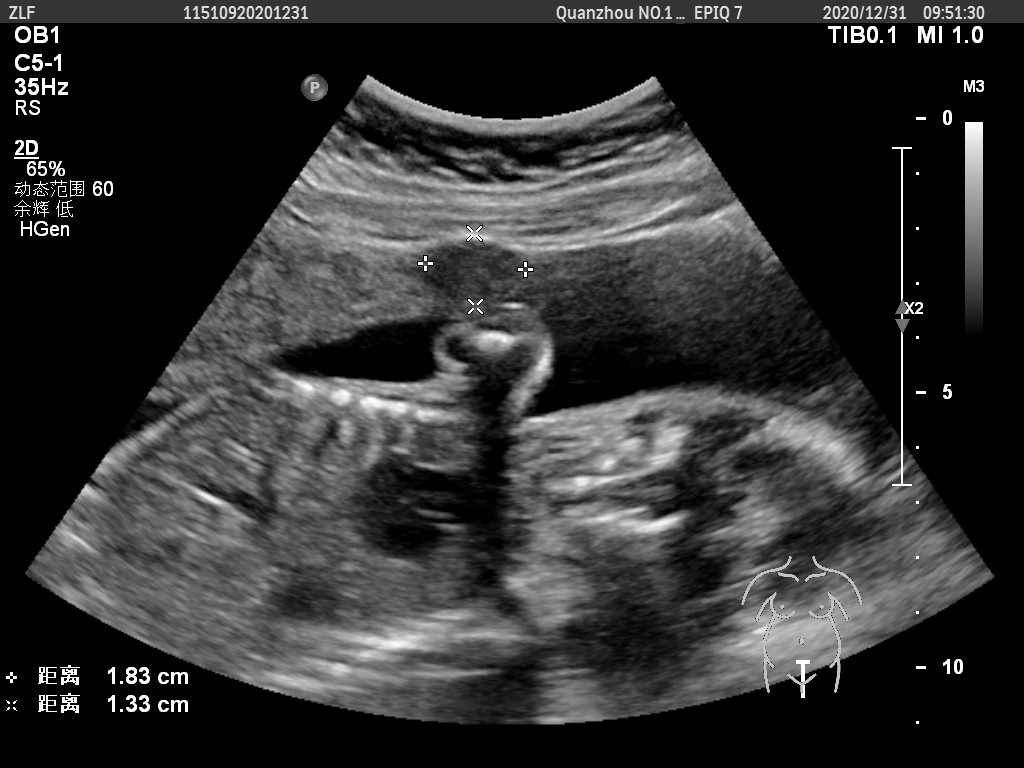肌瘤: (425, 242, 526, 301)
